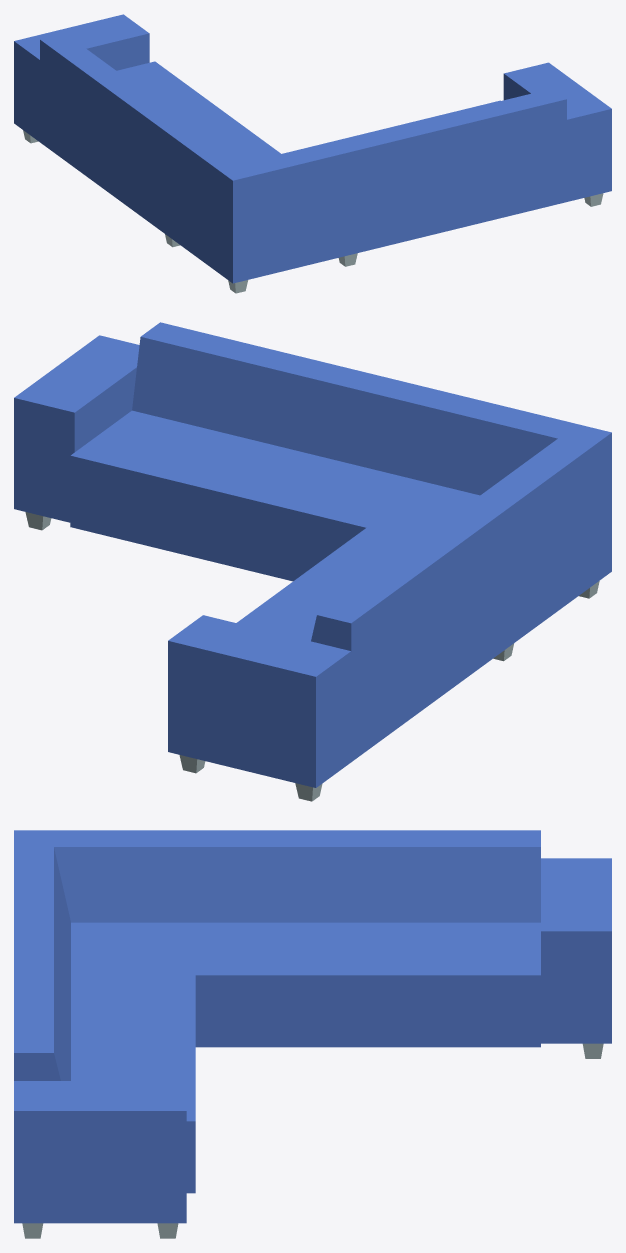
Rendered from loungeDesignSofaCorner.fbx.
3 views of the same model, one above another, from view 1: azimuth 30°, elevation 25°; view 2: azimuth 150°, elevation 25°; view 3: azimuth 270°, elevation 25° (orthographic). The views are drawn at different scales.
Parts seen in each view (by area): view 1: loungeDesignSofaCorner; view 2: loungeDesignSofaCorner; view 3: loungeDesignSofaCorner.
Boxes of the visible parts, left/top/right/bottom form: loungeDesignSofaCorner: left=14, top=14, right=611, bottom=293; loungeDesignSofaCorner: left=14, top=322, right=611, bottom=801; loungeDesignSofaCorner: left=14, top=830, right=611, bottom=1238.
Size of the model in its own units: 13.5 by 4 by 13.5.
